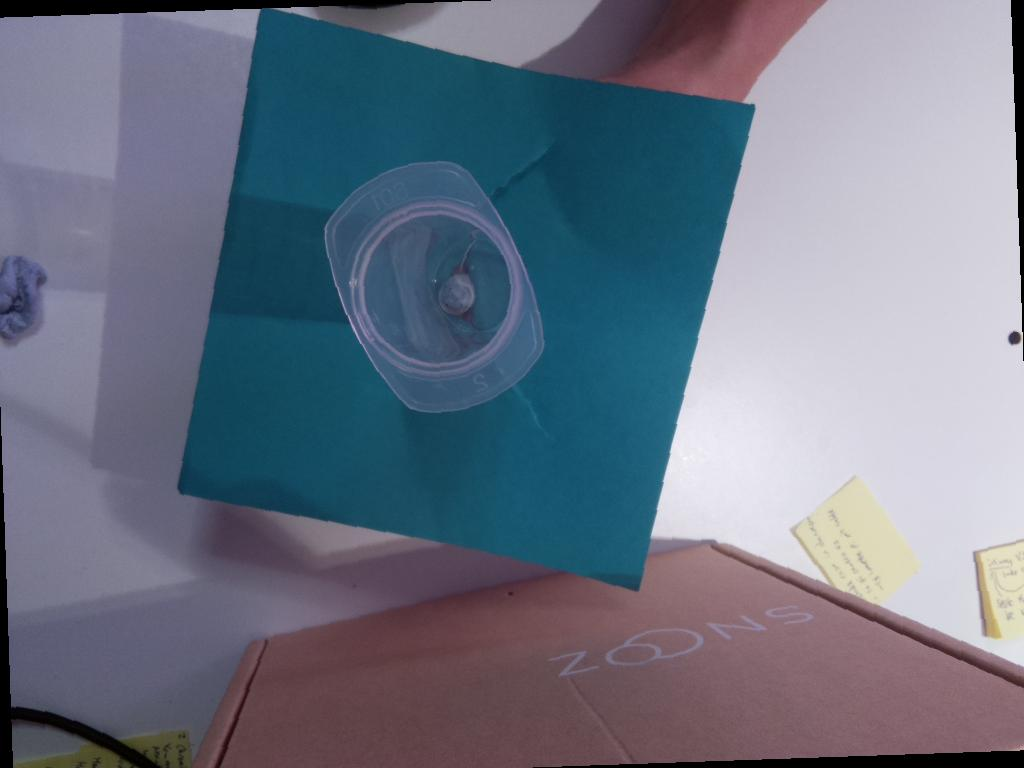clean: (323, 158, 545, 415)
